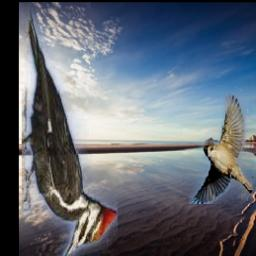Sparrow: (190, 93, 254, 204)
Woodpecker: (23, 2, 119, 256)
